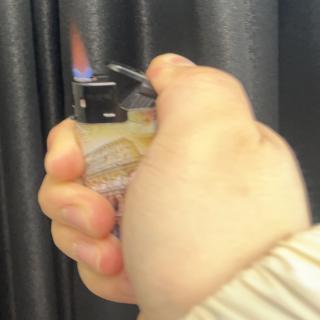fire: (70, 16, 94, 79)
